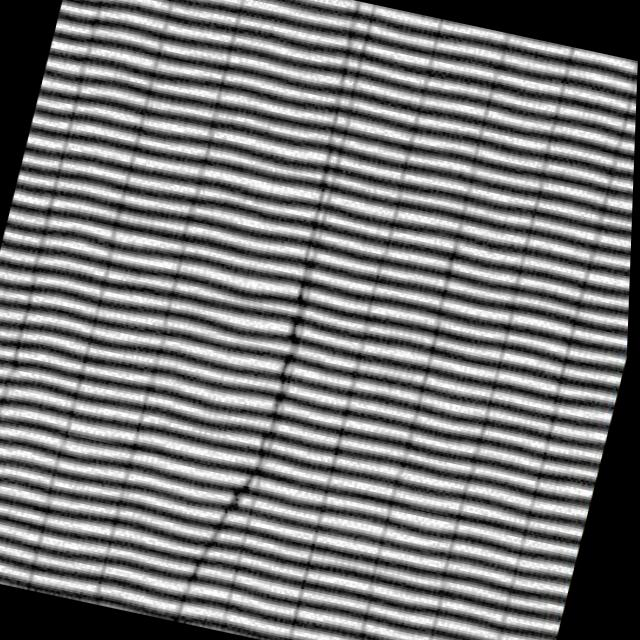Stitch: (158, 196, 361, 614)
